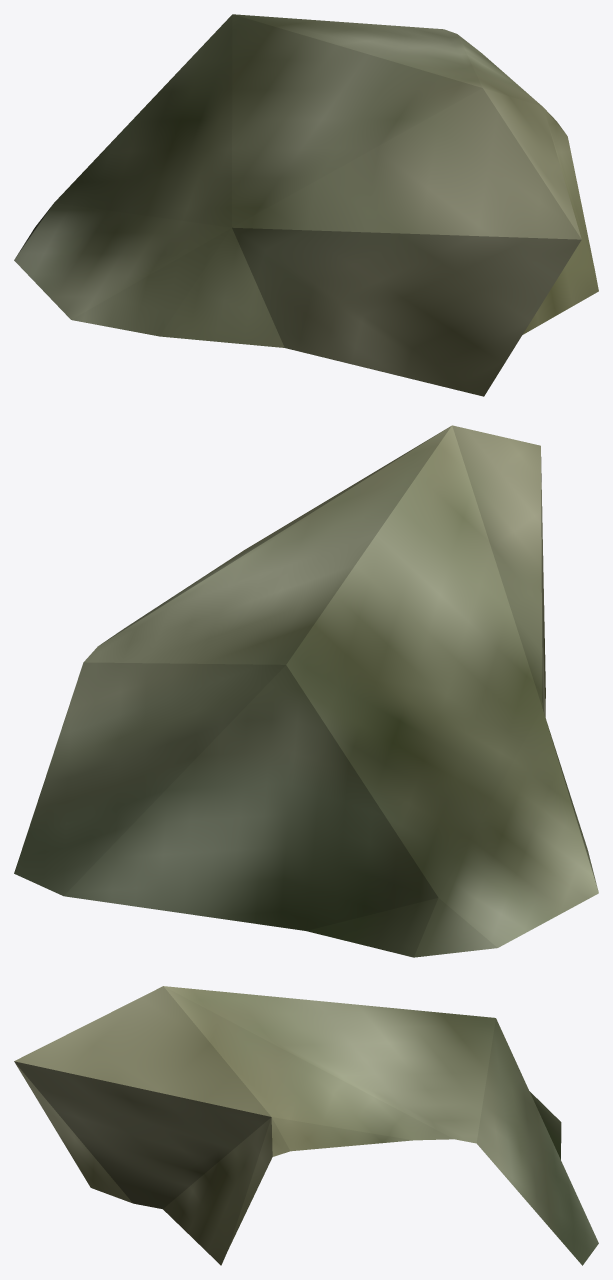
The picture shows the model from 3 angles, top to bottom: view 1: azimuth 30°, elevation 25°; view 2: azimuth 150°, elevation 25°; view 3: azimuth 270°, elevation 25°; orthographic projection. The views are drawn at different scales.
Bounding box in the file's own units: 0.3255 × 0.1945 × 0.4709.
Materials: 1 (1 with a texture image).
